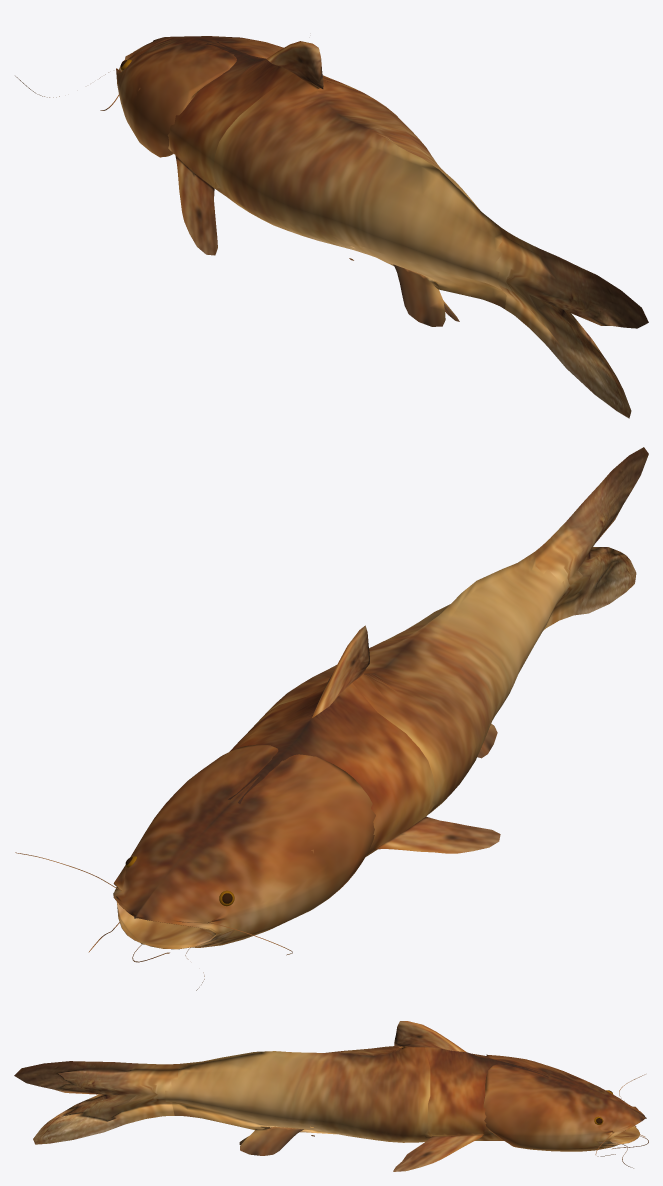
Rendered from bagreGuri.fbx.
3 renders of one model, top to bottom at view 1: azimuth 30°, elevation 25°; view 2: azimuth 150°, elevation 25°; view 3: azimuth 270°, elevation 25°, orthographic. The views are drawn at different scales.
Parts seen in each view (by area): view 1: Bagre; view 2: Bagre; view 3: Bagre.
Part boxes in pixels (bbox=[...]): Bagre: bbox=[15, 36, 648, 418]; Bagre: bbox=[15, 447, 648, 990]; Bagre: bbox=[14, 1021, 648, 1171].
Bounding box in the file's own units: 232 × 157 × 707.
Materials: 3 (1 with a texture image).
